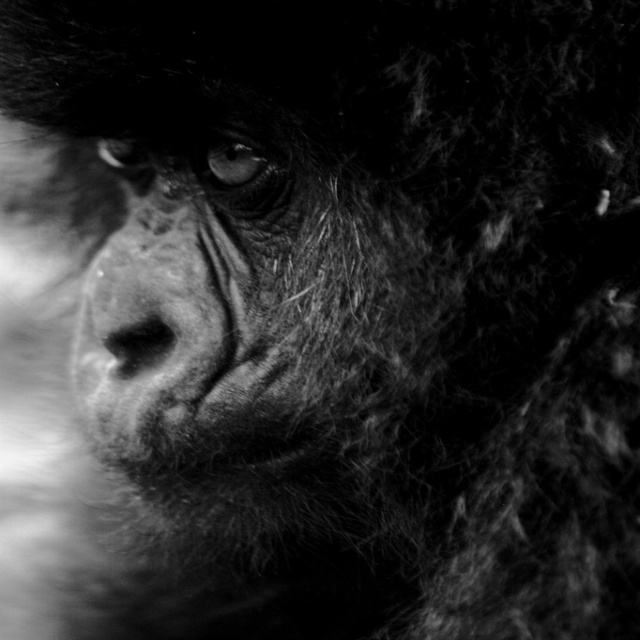Monkey: (8, 22, 640, 632)
